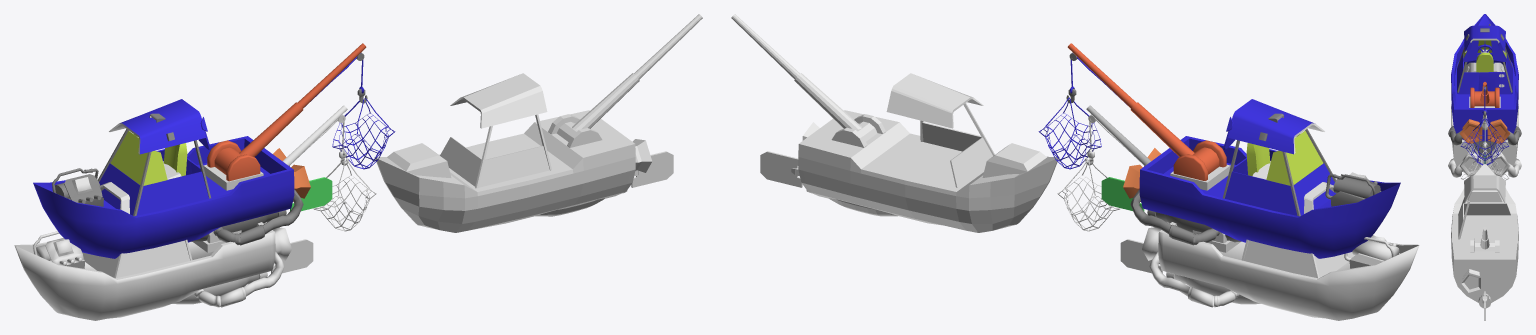
Rendered from DriftBoat_Hybirdrigged.fbx.
3 renders of one model, left to right at view 1: azimuth 30°, elevation 25°; view 2: azimuth 150°, elevation 25°; view 3: azimuth 270°, elevation 25°, orthographic. The views are drawn at different scales.
Parts seen in each view (by area): view 1: Cylinder.001, Blockout, Cube.006, Cylinder.002, Cylinder.003; view 2: Cylinder.001, Blockout, Cube.006, Cylinder.002, Cylinder.003; view 3: Cylinder.001, Blockout, Cube.006, Cylinder.002.
Part boxes in pixels (x1,y1,x2,y2): Cylinder.001: (33,43,395,258); Blockout: (374,14,702,232); Cube.006: (14,161,313,320); Cylinder.002: (282,105,376,231); Cylinder.003: (290,177,332,211); Cylinder.001: (1038,43,1400,258); Blockout: (731,14,1059,232); Cube.006: (1120,161,1419,320); Cylinder.002: (1057,105,1151,231); Cylinder.003: (1101,177,1144,211); Cylinder.001: (1448,14,1521,165); Blockout: (1451,164,1518,320); Cube.006: (1448,62,1521,177); Cylinder.002: (1461,115,1509,180).
Size of the model in its own units: 504 by 152 by 70.07.
